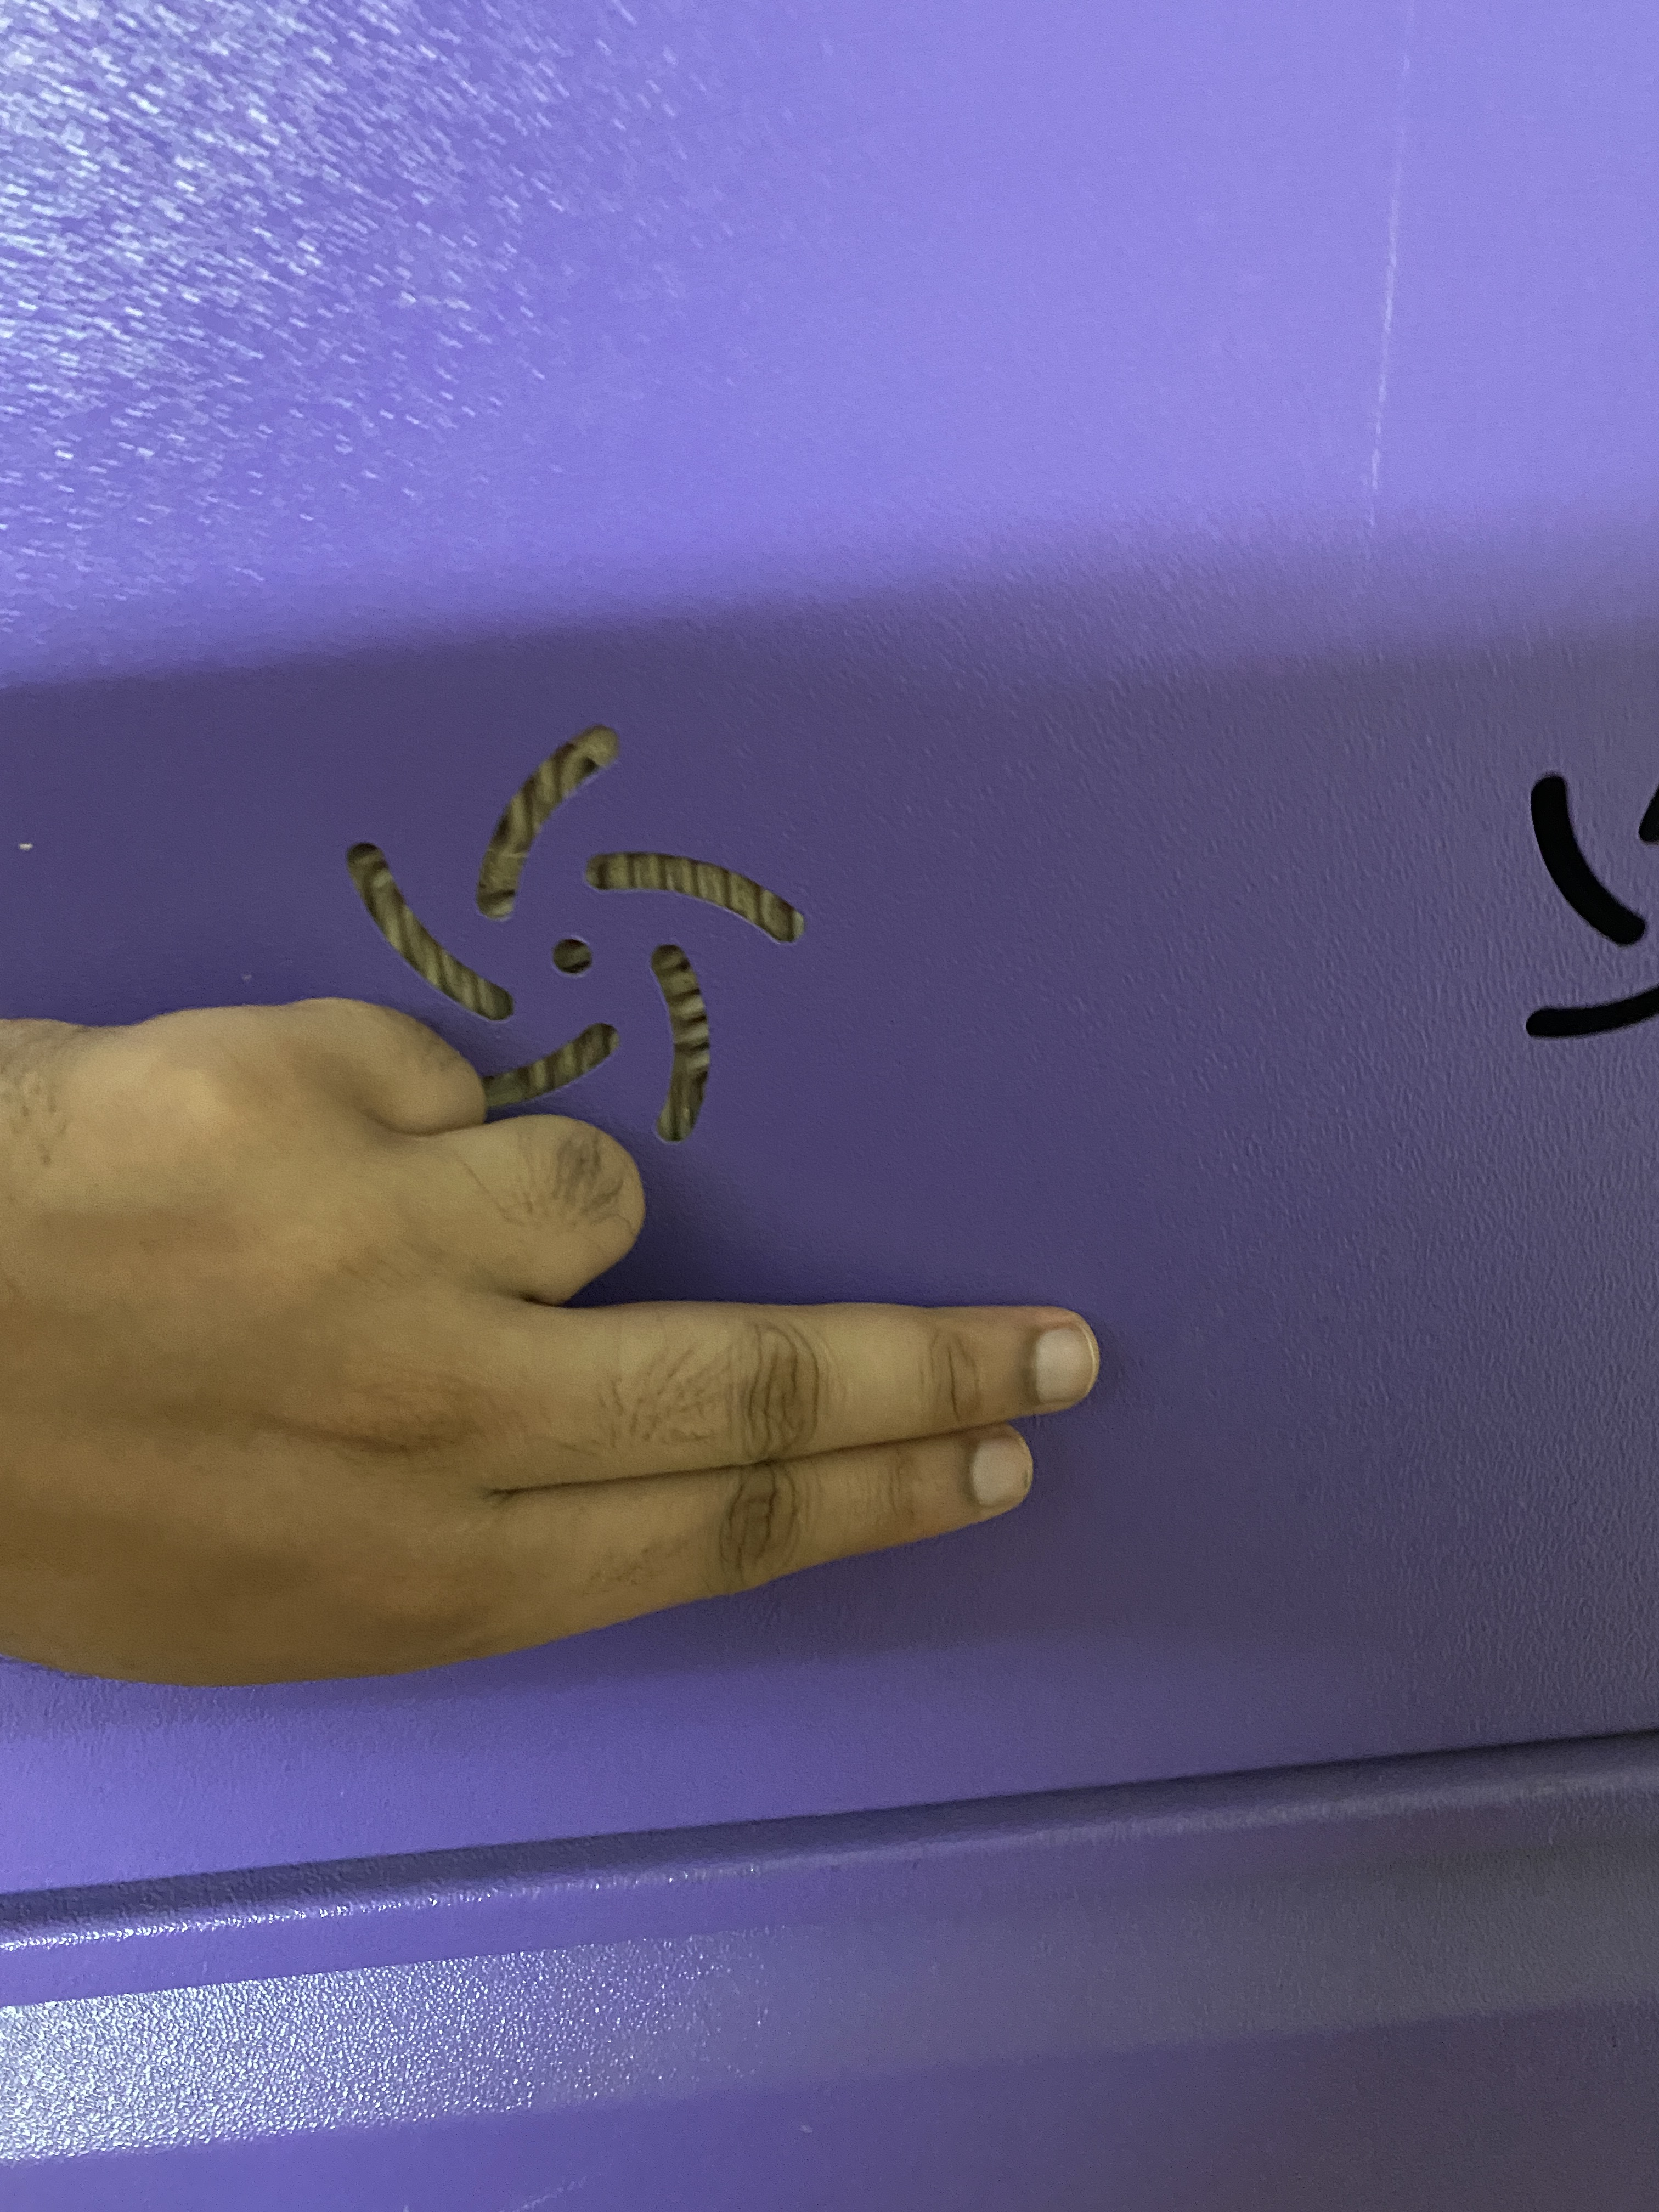left: (12, 909, 1293, 1834)
